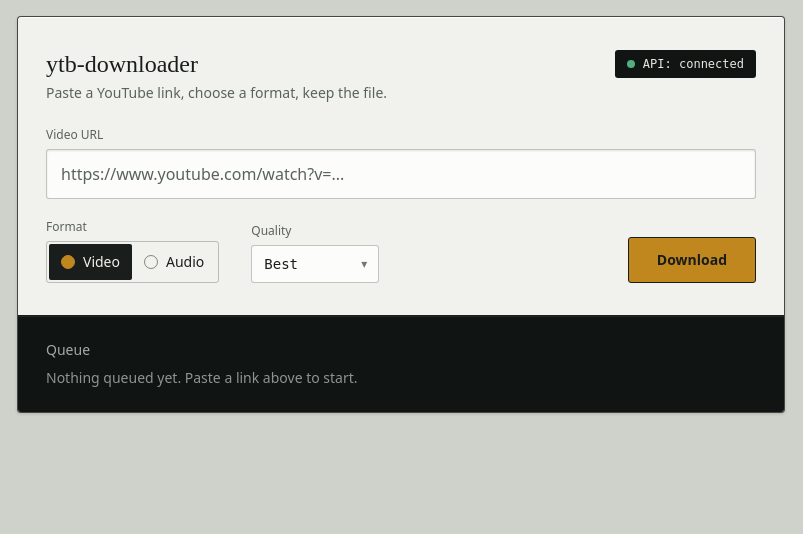
Test case: video metadata › shows the metadata block when the URL field loses focus
Type "https://www.youtube.com/watch?v=abc123" into the field labelled "Video URL" at (401, 174), box [46, 149, 756, 199]
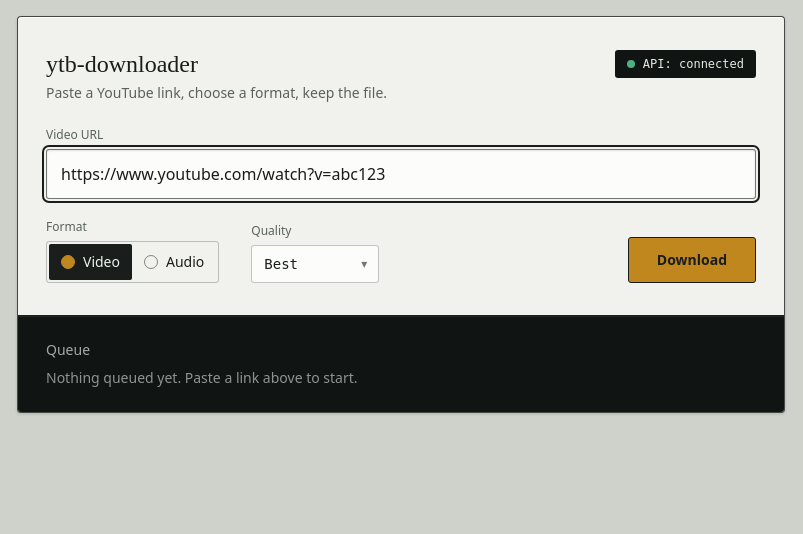
Leave the field labelled "Video URL", box [46, 149, 756, 199]
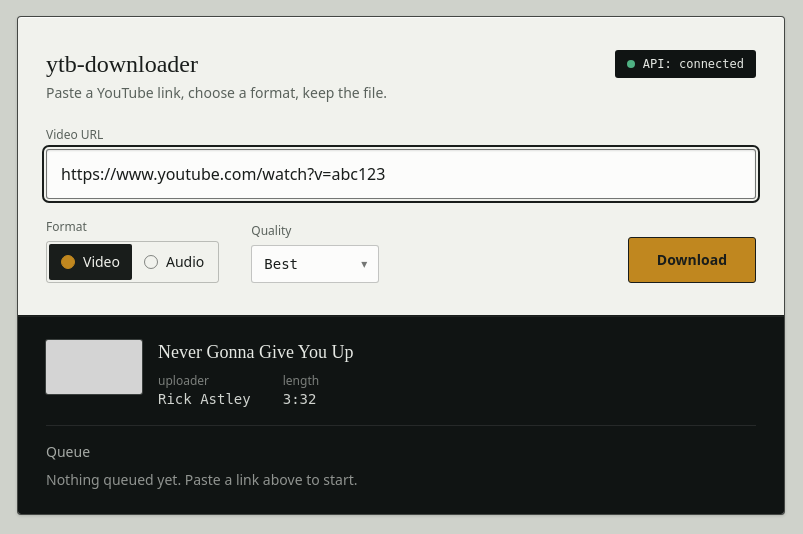
Check: the heading "Never Gonna Give You Up" is shown, box [158, 342, 354, 362]
Check: the text "Rick Astley" is shown, box [158, 389, 251, 409]
